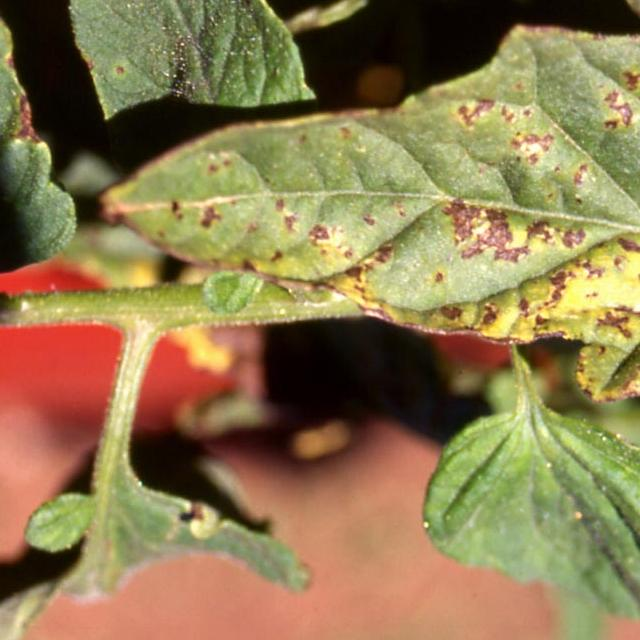Tomato leaf bacterial spot: (74, 15, 640, 475), (406, 360, 640, 640)
